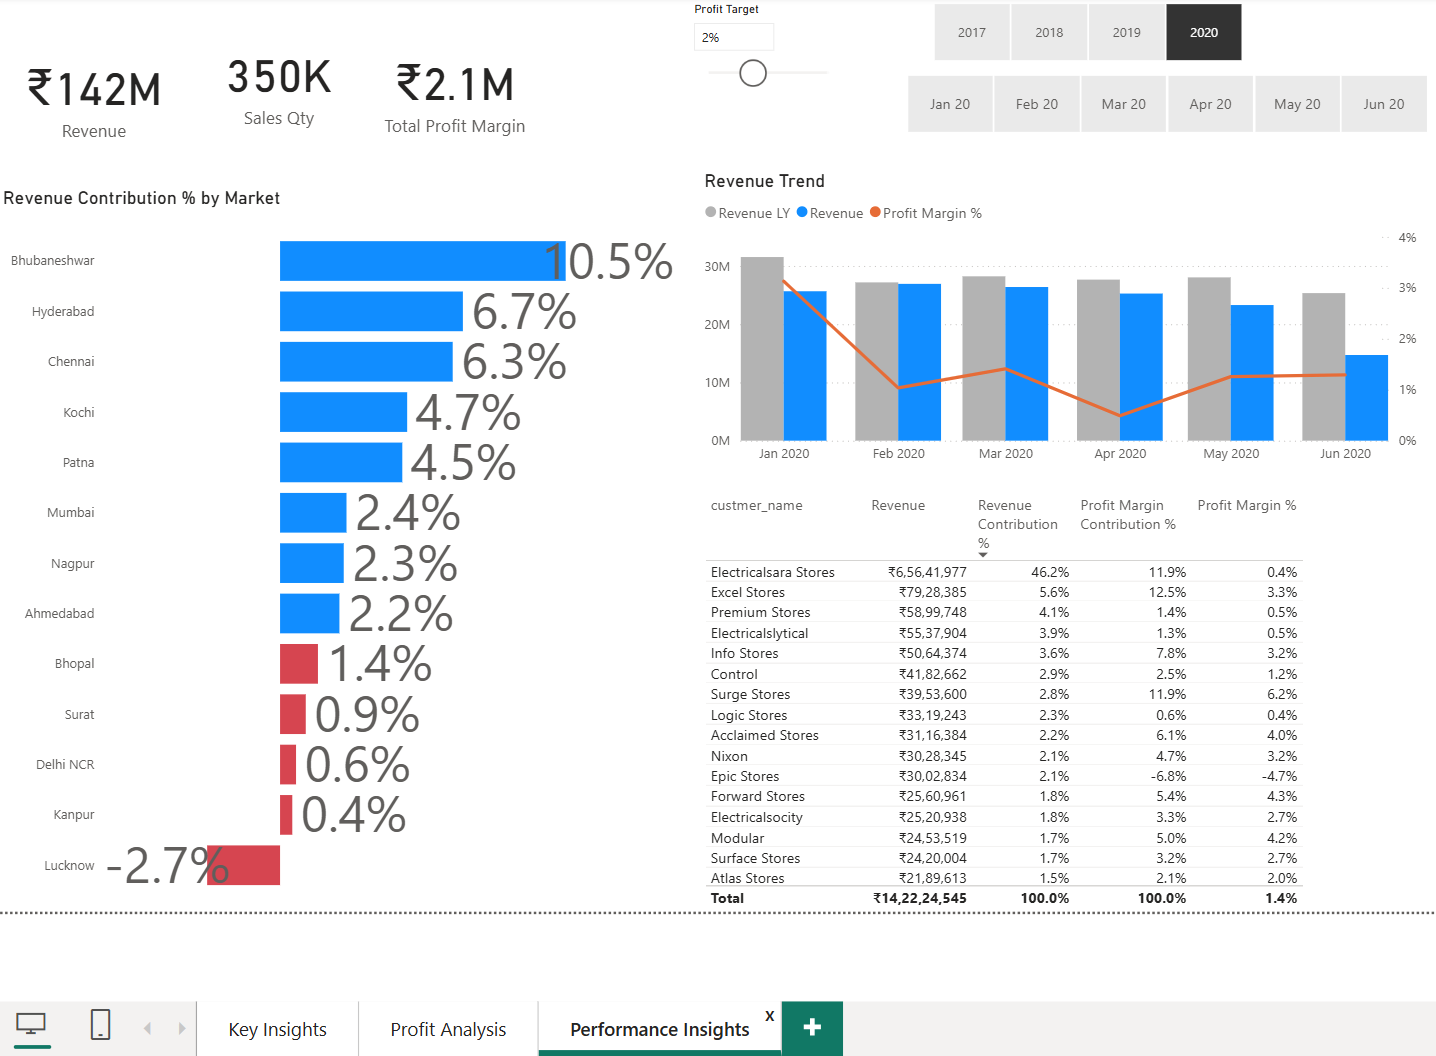

The dashboard page shown, as its layout file describes it:
{"tool":"powerbi","page":{"name":"Performance Insights","canvas":[1350,850],"ordinal":2},"visuals":[{"type":"card","fields":{"Values":["BaseMeasures (2).Revenue"]},"box":[0,0,179.6,184.8],"z":0},{"type":"card","fields":{"Values":["BaseMeasures (2).Sales Qty"]},"box":[179.6,0,164.1,161],"z":1000},{"type":"slicer","fields":{"Values":["sales date.year"]},"box":[844.4,0,335.5,66.1],"z":2000},{"type":"slicer","fields":{"Values":["sales date.cy_date"]},"box":[818.6,66.1,531.6,66.1],"z":3000},{"type":"tableEx","title":"Top 5 Customers","fields":{"Values":["sales customers.custmer_name","BaseMeasures (2).Revenue","BaseMeasures (2).Revenue Contribution %","BaseMeasures (2).Profit Margin Contribution %","BaseMeasures (2).Profit Margin %"]},"box":[651.4,457.3,698.8,392.3],"z":4000},{"type":"lineClusteredColumnComboChart","title":"Revenue Trend","fields":{"Category":["sales date.cy_date"],"Y":["BaseMeasures (2).Revenue LY","BaseMeasures (2).Revenue"],"Y2":["BaseMeasures (2).Profit Margin %"]},"box":[651.4,161,672,281.8],"z":5000},{"type":"card","fields":{"Values":["BaseMeasures (2).Total Profit Margin"]},"box":[343.7,0,161,176.5],"z":6000},{"type":"barChart","title":"Revenue Contribution % by Market","fields":{"Y":["BaseMeasures (2).Profit Margin %"],"Category":["sales markets.zone","sales markets.markets_name","sales customers.custmer_name","sales products.product_code"]},"box":[0,176.3,633.4,673],"z":7000},{"type":"slicer","fields":{"Values":["Profit Target.Profit Target"]},"box":[633.4,0,159.7,131.5],"z":8000}]}

Visuals, with their boxes on the page's 1350x850 design canvas (x1, y1, x2, y2). These are canvas units, not pixel positions in the 1436x1056 screenshot, which may show the page scaled, cropped or inside an application window:
card - BaseMeasures (2).Revenue: select_region(0, 0, 180, 185)
card - BaseMeasures (2).Sales Qty: select_region(180, 0, 344, 161)
slicer - sales date.year: select_region(844, 0, 1180, 66)
slicer - sales date.cy_date: select_region(819, 66, 1350, 132)
"Top 5 Customers" tableEx: select_region(651, 457, 1350, 850)
"Revenue Trend" lineClusteredColumnComboChart: select_region(651, 161, 1323, 443)
card - BaseMeasures (2).Total Profit Margin: select_region(344, 0, 505, 176)
"Revenue Contribution % by Market" barChart: select_region(0, 176, 633, 849)
slicer - Profit Target.Profit Target: select_region(633, 0, 793, 132)
